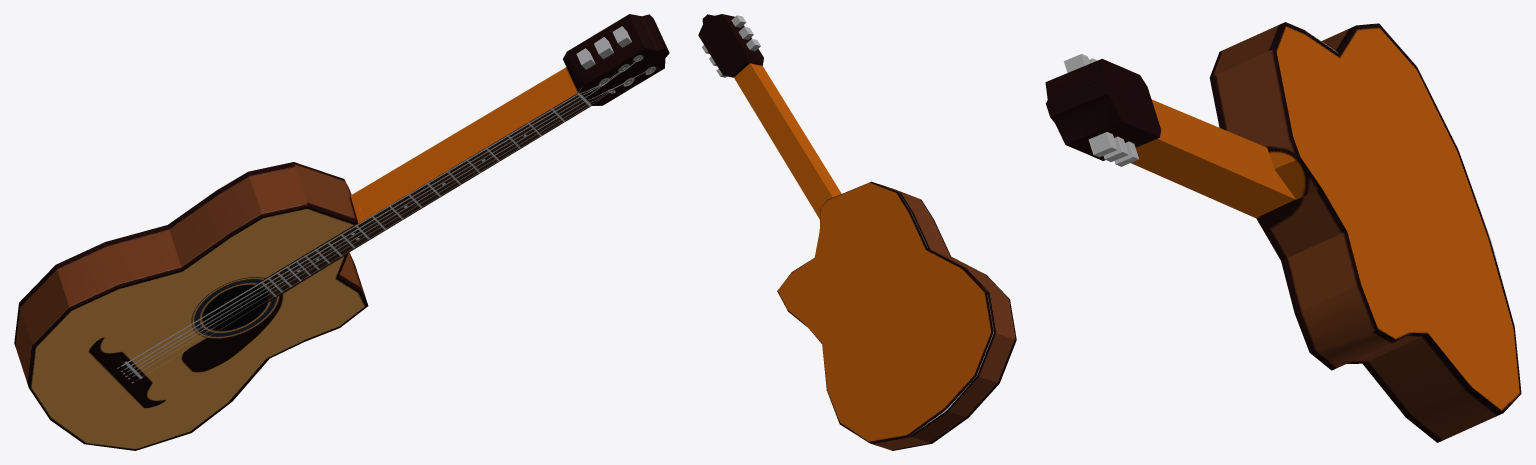
File: guitarra3_000200.obj
3 renders of one model, left to right at view 1: azimuth 30°, elevation 25°; view 2: azimuth 150°, elevation 25°; view 3: azimuth 270°, elevation 25°, orthographic. The views are drawn at different scales.
Parts seen in each view (by area): view 1: Guitarra_2:pPlane4; view 2: Guitarra_2:pPlane4; view 3: Guitarra_2:pPlane4.
Part boxes in pixels (left/top/right/bottom): Guitarra_2:pPlane4: left=14, top=14, right=669, bottom=450; Guitarra_2:pPlane4: left=698, top=14, right=1016, bottom=450; Guitarra_2:pPlane4: left=1045, top=22, right=1521, bottom=442.
Size of the model in its own units: 10.62 by 8.34 by 5.82.
